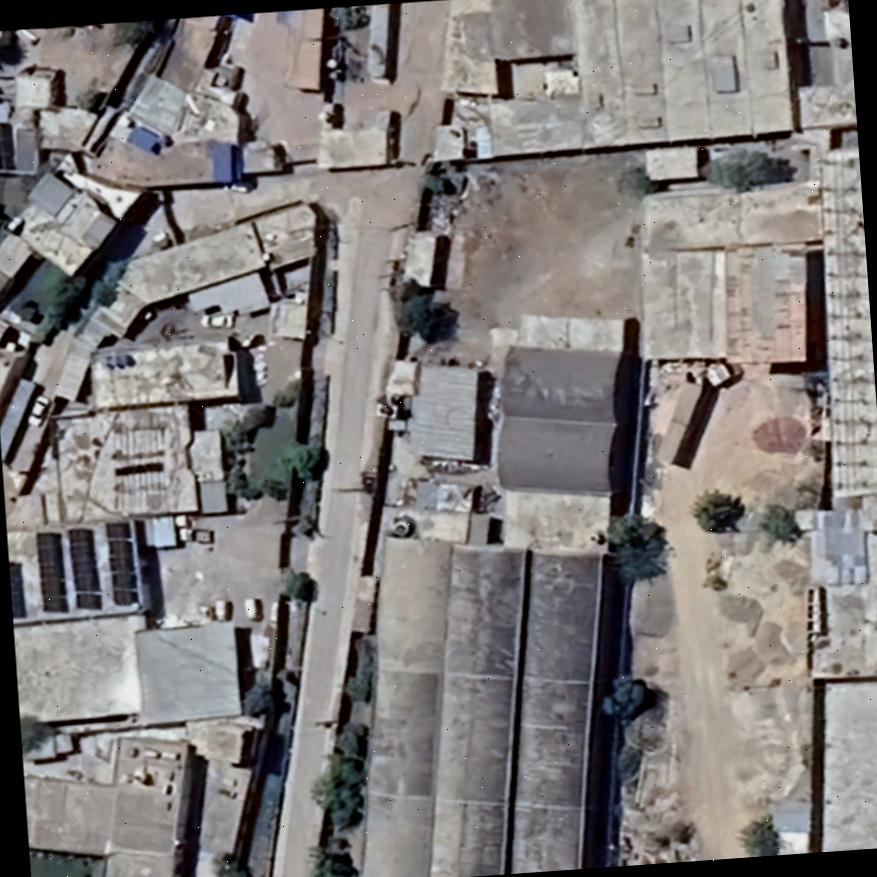Solarpanel: (64, 526, 102, 609), (34, 530, 69, 613), (103, 520, 136, 605), (8, 560, 27, 620), (0, 120, 15, 170)
